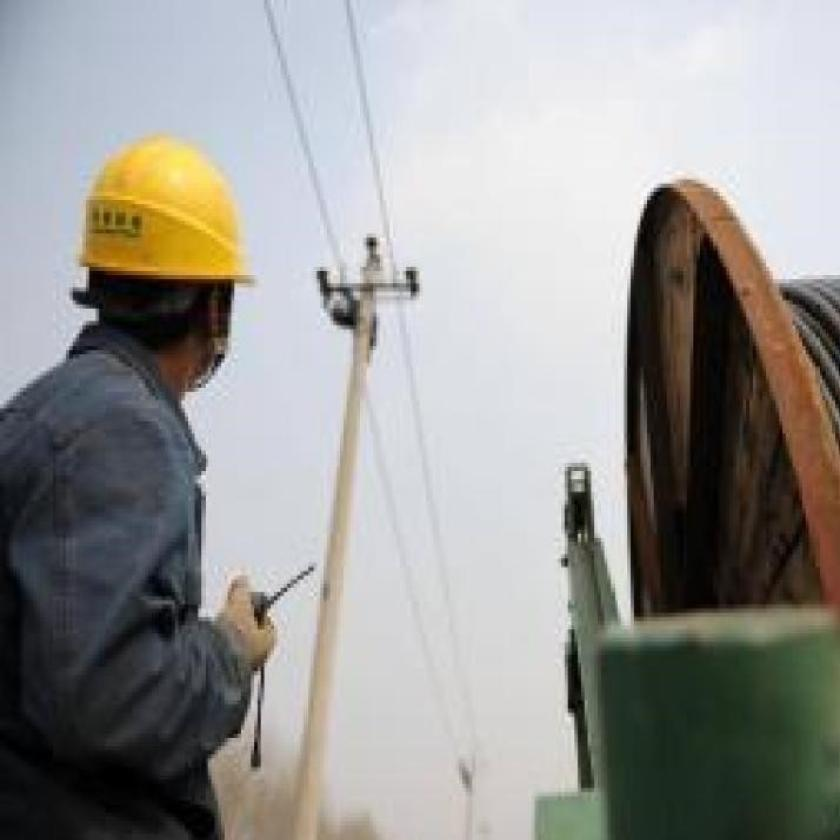Con_casco: (80, 118, 268, 413)
